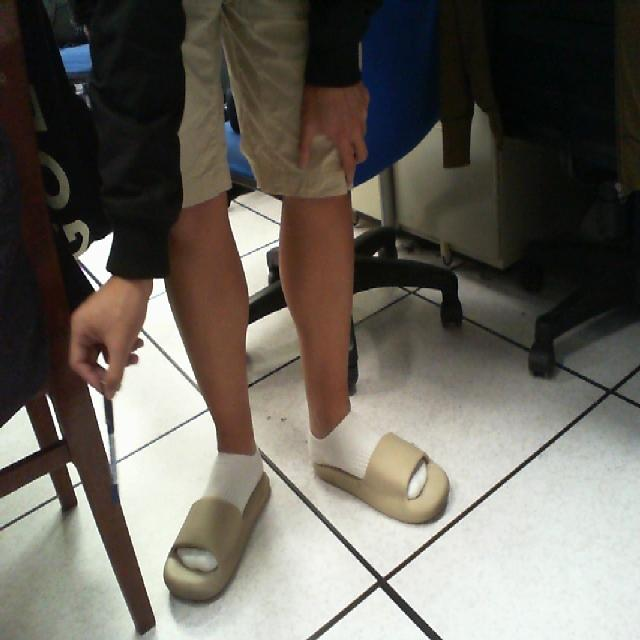Pen: (86, 352, 141, 524)
